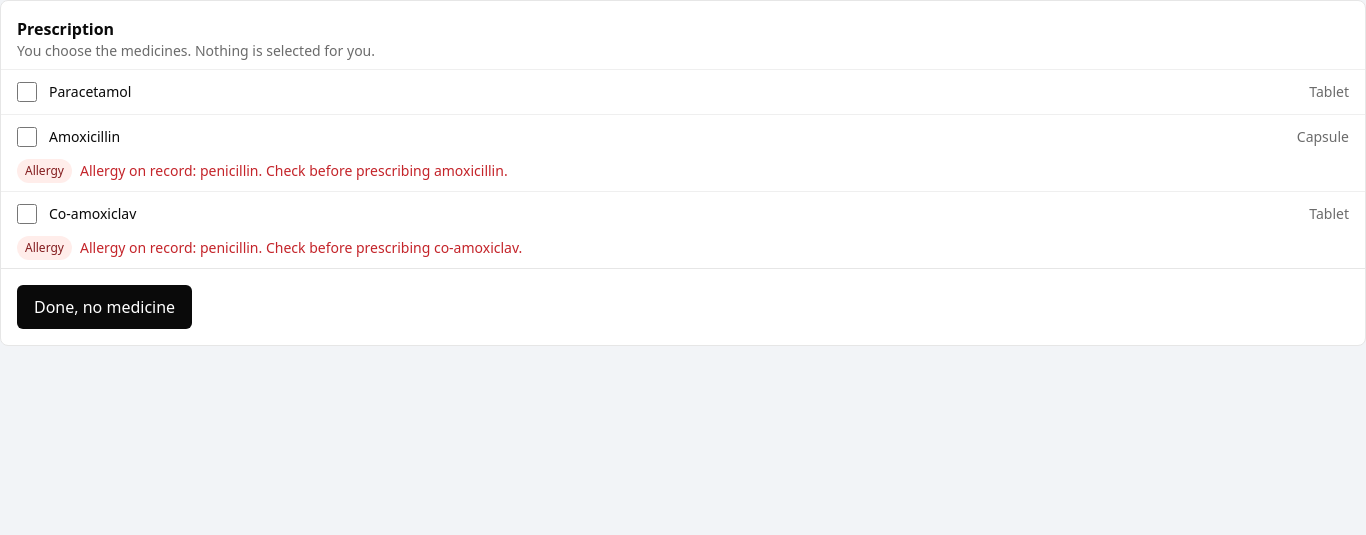
Test: the picker › drops the second tap as soon as a medicine is chosen
Expected: the checkbox with test id "drug-DR-PARA" is shown, top-left (17, 82), bottom-right (37, 102)
Click the button with test id "consult-done" at (105, 307), box top-left (17, 285), bottom-right (192, 329)
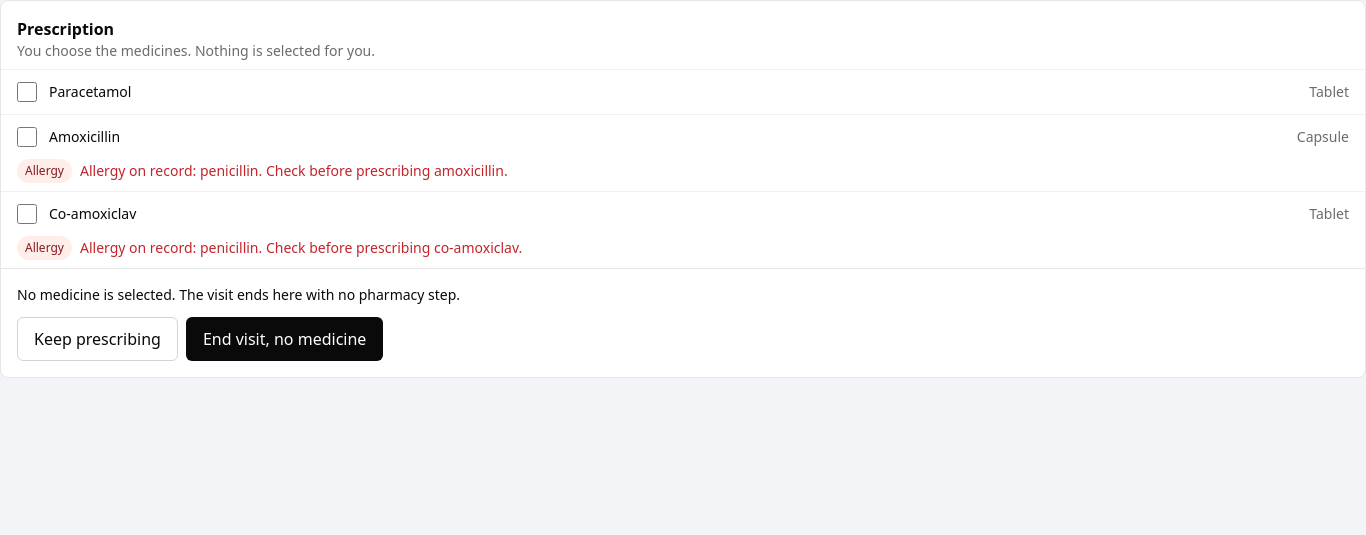
Click the checkbox with test id "drug-DR-PARA" at (27, 92), box top-left (17, 82), bottom-right (37, 102)
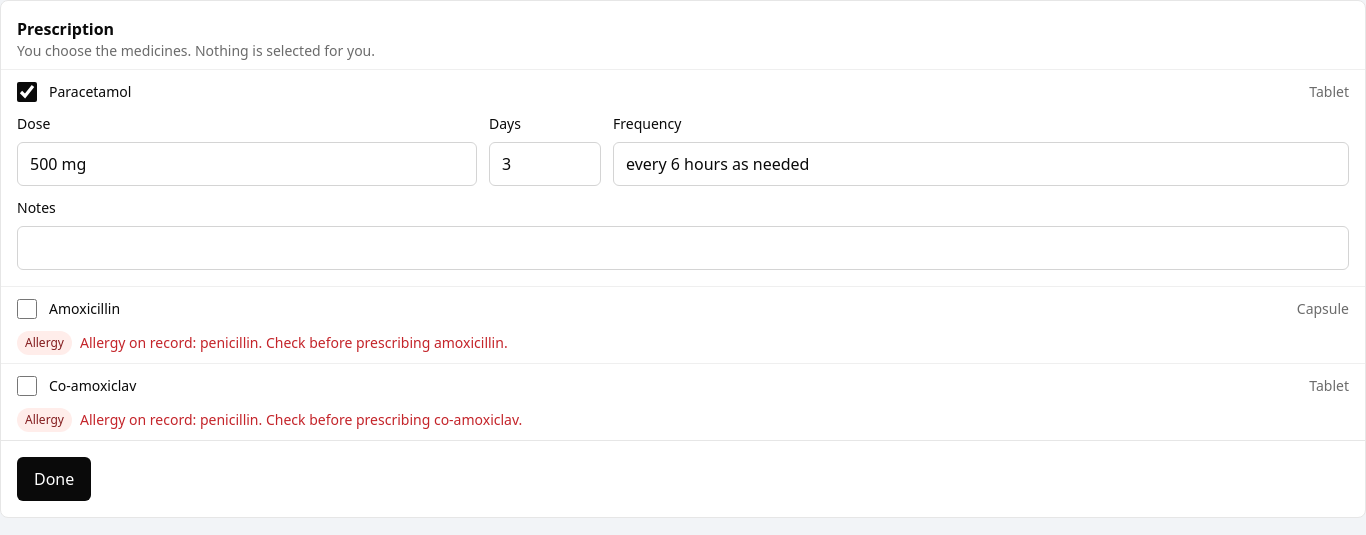
Result: the button with test id "done-empty-confirm" is gone
Result: the button with test id "consult-done" reads "Done" at top-left (17, 457), bottom-right (91, 501)
